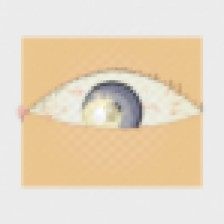corneal_ulcer: (68, 91, 134, 144)
